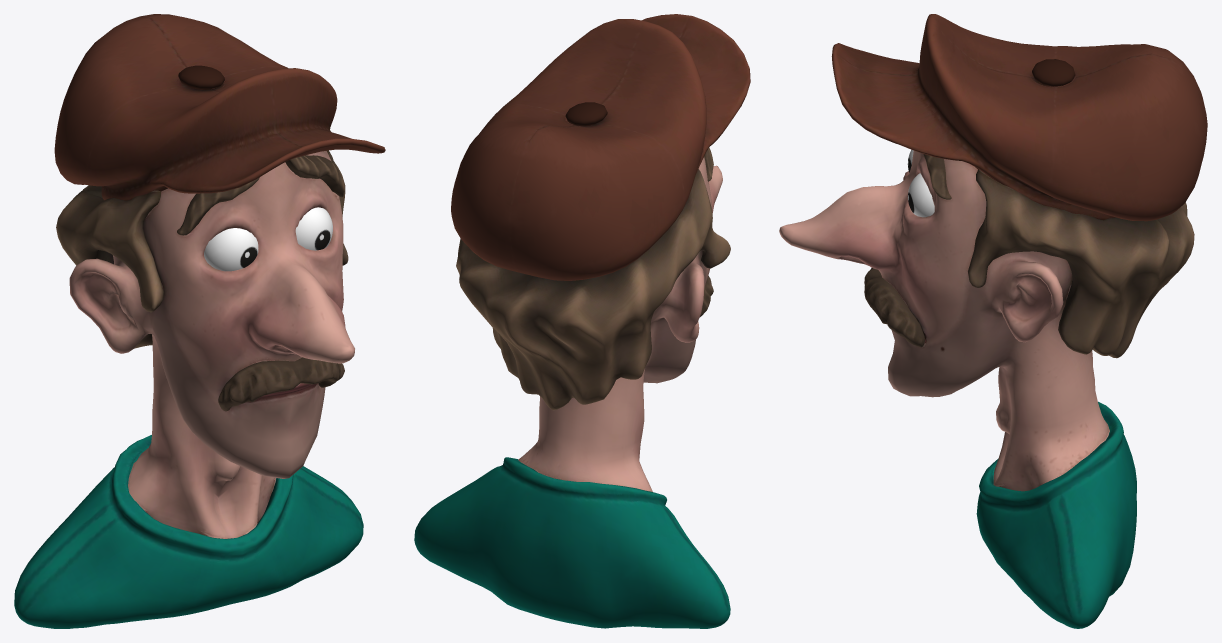
The model's file is 人物其它_Cartoon Character Head_opt.glb.
3 renders of one model, left to right at view 1: azimuth 30°, elevation 25°; view 2: azimuth 150°, elevation 25°; view 3: azimuth 270°, elevation 25°, orthographic. The views are drawn at different scales.
Visible parts, largest first — view 1: material0, material0_6, material0_2, material0_0, material0_1, material0_4, material0_3, material0_5; view 2: material0_6, material0_2, material0_0, material0, material0_5; view 3: material0_6, material0, material0_2, material0_0, material0_1, material0_5, material0_4, material0_3.
Boxes of the visible parts, left/top/right/bottom form: material0: left=69, top=151, right=354, bottom=538; material0_6: left=54, top=14, right=385, bottom=200; material0_2: left=14, top=435, right=363, bottom=628; material0_0: left=56, top=150, right=348, bottom=348; material0_1: left=218, top=357, right=344, bottom=411; material0_4: left=204, top=207, right=332, bottom=271; material0_3: left=177, top=155, right=344, bottom=235; material0_5: left=178, top=65, right=224, bottom=89; material0_6: left=451, top=14, right=750, bottom=280; material0_2: left=414, top=457, right=730, bottom=628; material0_0: left=456, top=169, right=730, bottom=410; material0: left=518, top=157, right=722, bottom=491; material0_5: left=565, top=102, right=607, bottom=125; material0_6: left=831, top=14, right=1207, bottom=221; material0: left=779, top=150, right=1109, bottom=491; material0_2: left=976, top=401, right=1136, bottom=628; material0_0: left=968, top=169, right=1194, bottom=358; material0_1: left=864, top=268, right=924, bottom=347; material0_5: left=1032, top=59, right=1075, bottom=86; material0_4: left=907, top=149, right=934, bottom=217; material0_3: left=923, top=154, right=951, bottom=199.
Bounding box in the file's own units: 0.2435 × 0.4 × 0.2817.
Materials: 8 (7 with a texture image).
